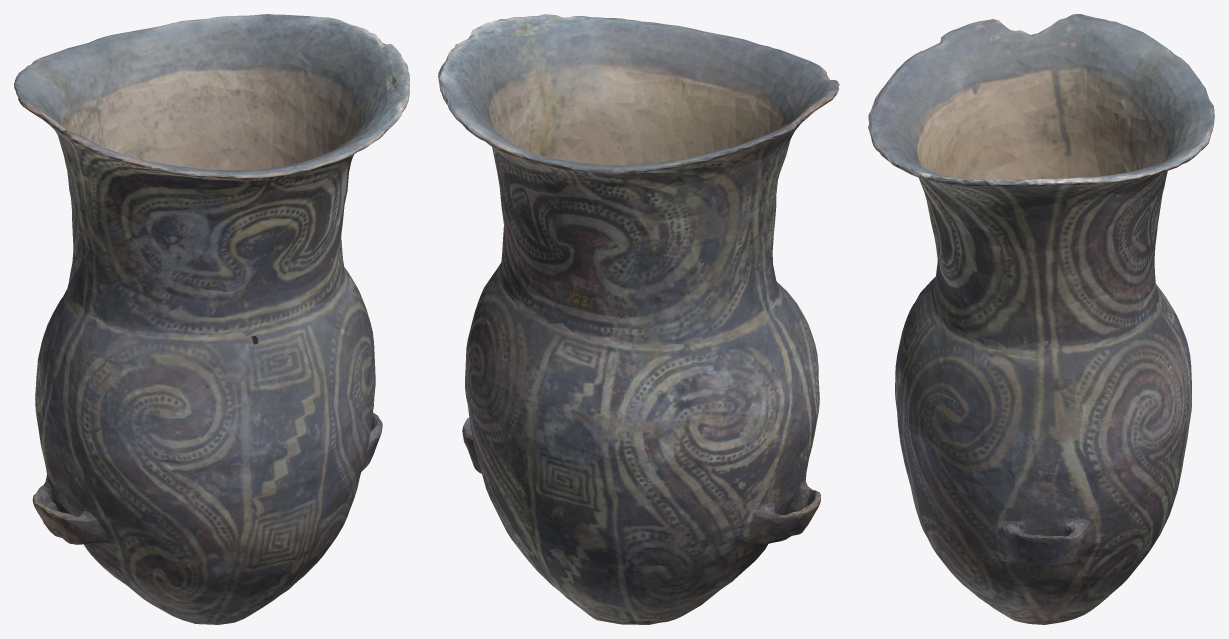
3 views of the same model, side by side, from view 1: azimuth 30°, elevation 25°; view 2: azimuth 150°, elevation 25°; view 3: azimuth 270°, elevation 25° (orthographic). The views are drawn at different scales.
Visible parts, largest first — view 1: MA0348; view 2: MA0348; view 3: MA0348.
Part boxes in pixels (x1,y1,x2,y2): MA0348: (14,14,409,624); MA0348: (438,14,839,624); MA0348: (868,14,1214,624).
Size of the model in its own units: 2.31 by 3.4 by 2.08.
Materials: 1 (1 with a texture image).
